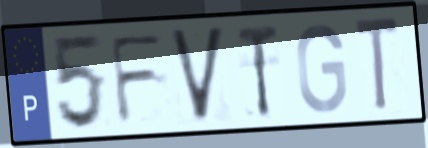5: (48, 31, 109, 132)
F: (106, 30, 168, 127)
G: (294, 20, 350, 116)
T: (352, 13, 403, 117), (234, 21, 281, 122)
V: (166, 23, 228, 127)
